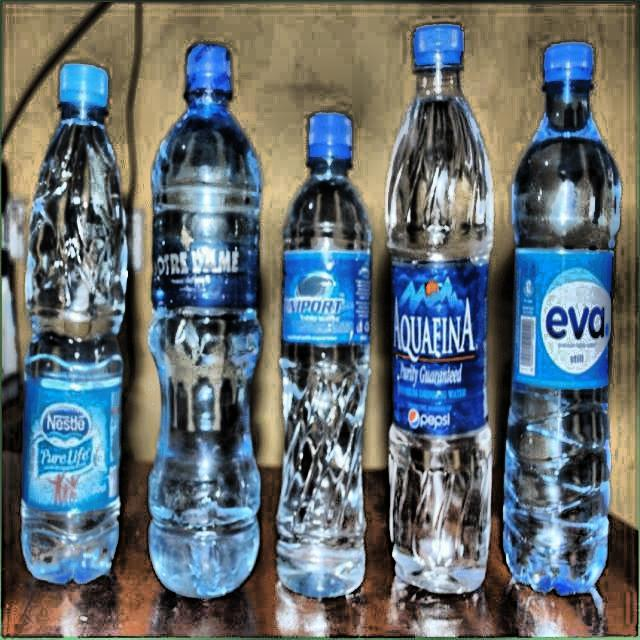plastic bottle: (505, 43, 622, 594), (148, 43, 261, 600), (387, 24, 494, 595), (22, 64, 127, 584), (277, 113, 372, 600)
